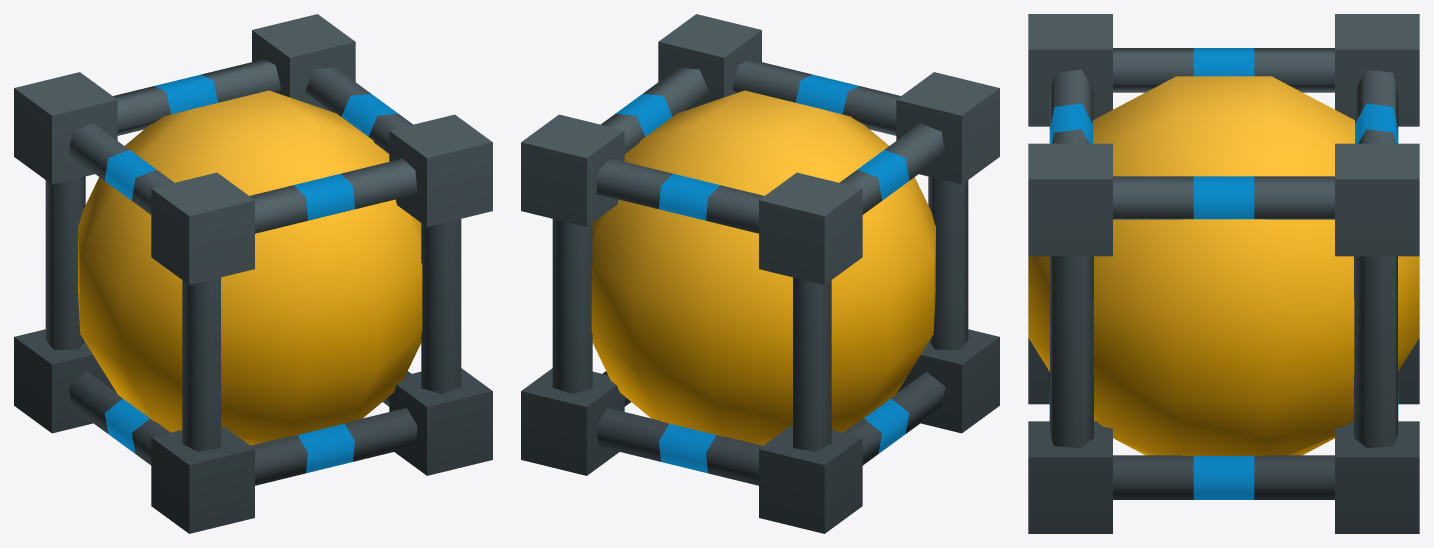
3 views of the same model, side by side, from view 1: azimuth 30°, elevation 25°; view 2: azimuth 150°, elevation 25°; view 3: azimuth 270°, elevation 25° (orthographic). The views are drawn at different scales.
Visible parts, largest first — view 1: Box_011; view 2: Box_011; view 3: Box_011.
Boxes of the visible parts, x1,y1,x2,y2 form: Box_011: (14, 14, 492, 533); Box_011: (521, 14, 999, 533); Box_011: (1028, 14, 1419, 533).
Bounding box in the file's own units: 0.6 × 0.6 × 0.6.
2 materials, 2 textured.
